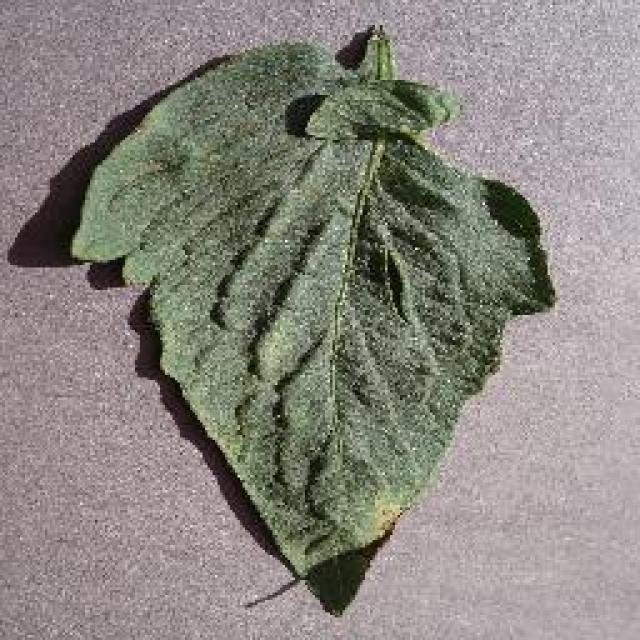Tomato___Target_Spot: (70, 25, 552, 572)
